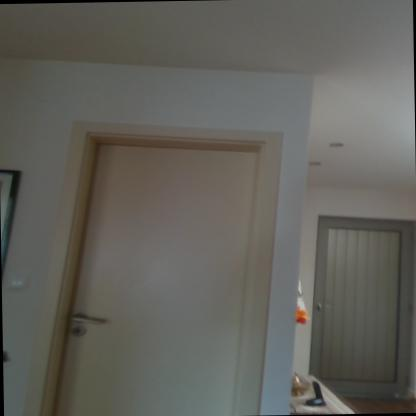closed: (53, 105, 299, 414), (305, 198, 415, 408)
